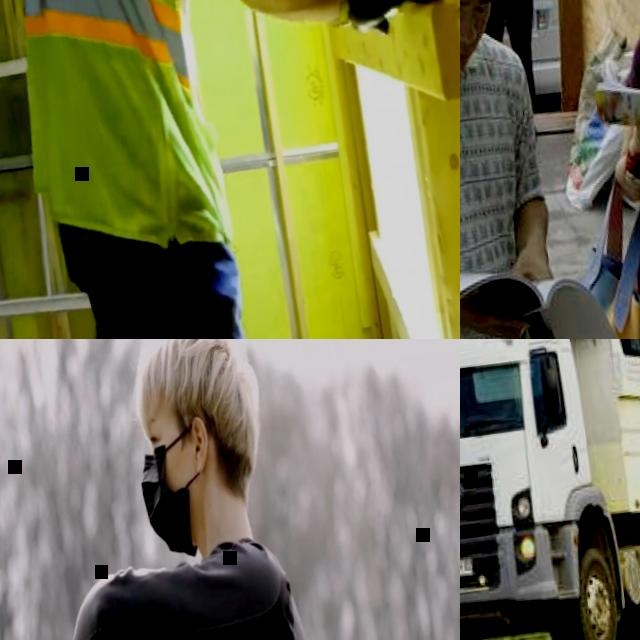Mask: (136, 442, 201, 559)
NO-Hardhat: (134, 339, 259, 423)
NO-Mask: (460, 1, 476, 79)
NO-Safety Vest: (460, 31, 563, 339), (143, 546, 340, 640)
Person: (0, 0, 460, 339), (9, 339, 344, 640), (460, 0, 589, 339), (571, 0, 640, 339), (460, 0, 575, 112)
Safety Vest: (0, 0, 288, 271)
machinery: (460, 339, 640, 640), (460, 339, 640, 408)
vehicle: (478, 0, 590, 101)
